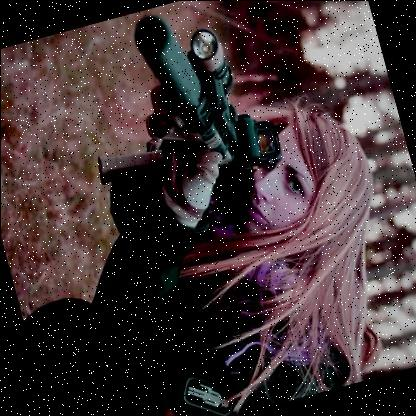rifle: (62, 0, 330, 252)
